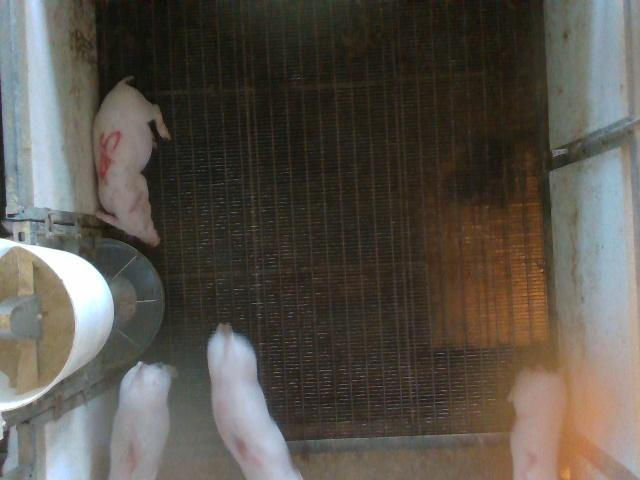pig-1: (109, 361, 174, 478)
pig-2: (509, 369, 566, 478)
pig-3: (208, 324, 301, 479)
pig-5: (92, 76, 170, 247)
